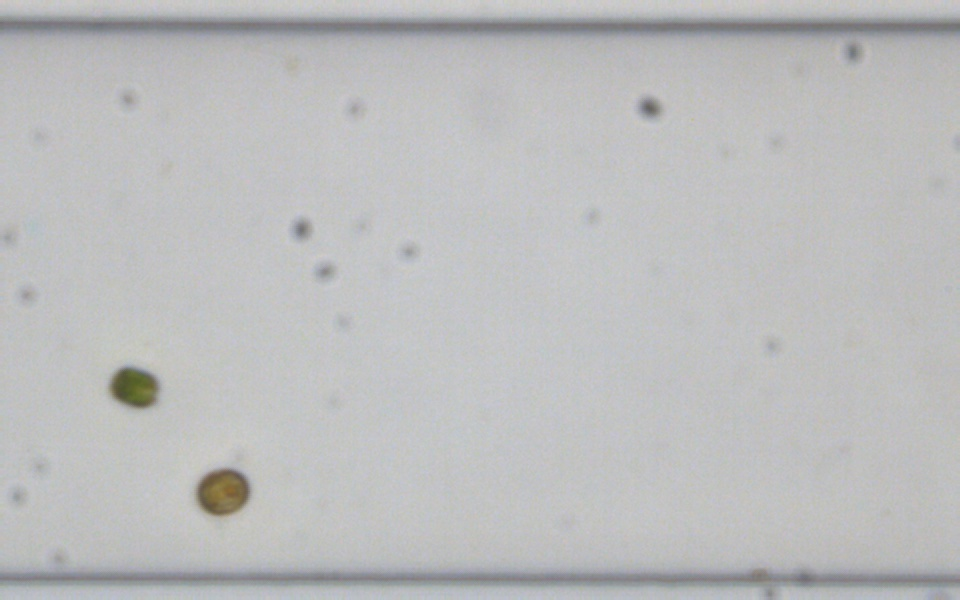Effrenium: (191, 464, 252, 519)
Platymonas: (106, 363, 161, 409)
